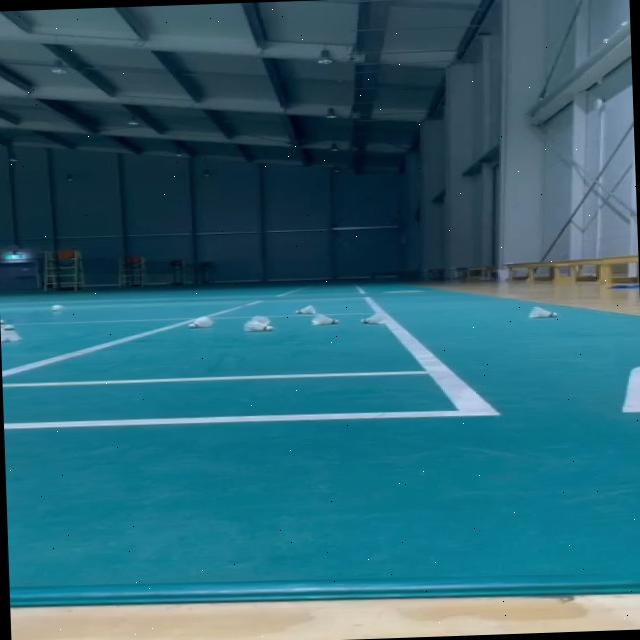Shuttle: (0, 324, 24, 342), (528, 304, 558, 318), (243, 318, 274, 331), (312, 312, 339, 326), (359, 312, 387, 324), (188, 315, 214, 327), (293, 304, 318, 315), (250, 314, 271, 326), (0, 318, 8, 337), (52, 304, 64, 311)
